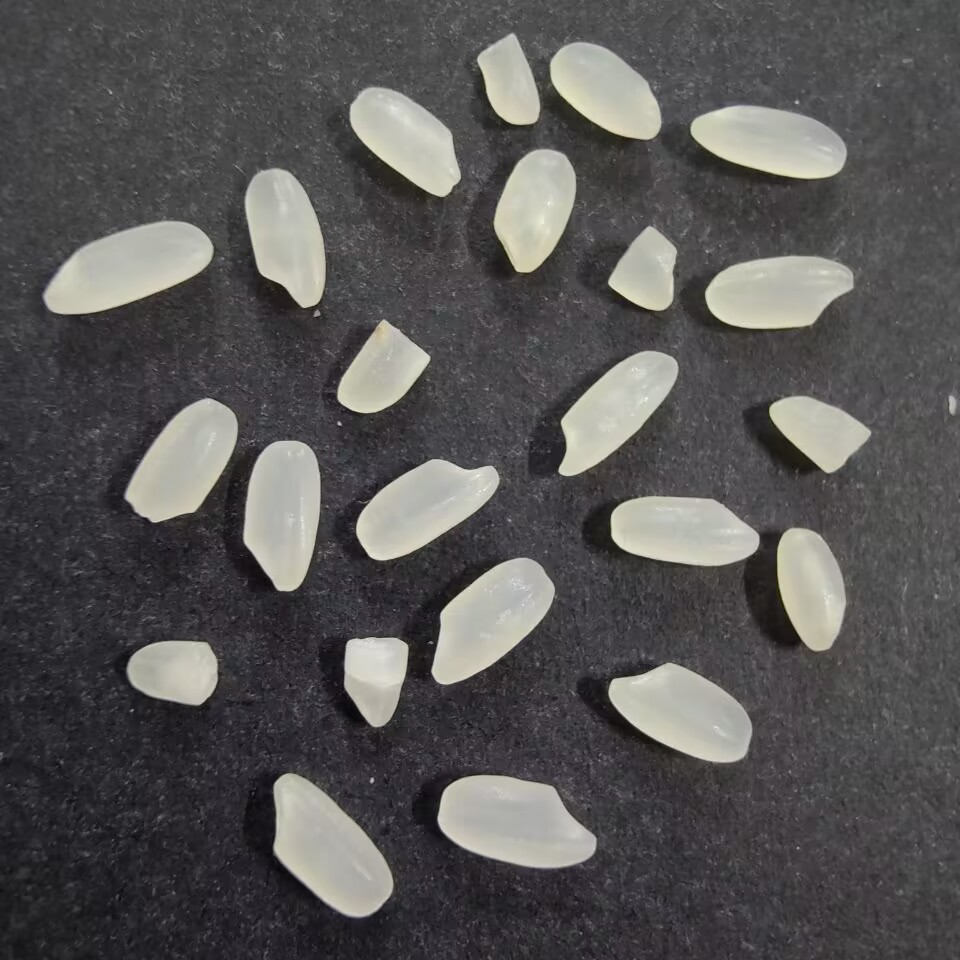broken: (122, 396, 237, 527), (334, 319, 434, 418), (763, 391, 875, 477), (604, 220, 683, 315), (123, 636, 221, 710), (338, 635, 411, 729), (477, 31, 544, 128)
rice: (266, 772, 398, 922), (40, 217, 217, 320), (425, 555, 559, 687), (553, 347, 682, 480), (350, 456, 502, 564), (601, 659, 754, 766), (435, 773, 601, 870), (349, 83, 464, 200), (237, 438, 323, 594), (686, 103, 849, 183), (241, 164, 326, 312), (607, 494, 765, 572), (702, 254, 857, 333), (547, 40, 665, 143), (491, 148, 579, 275), (770, 526, 853, 656)
